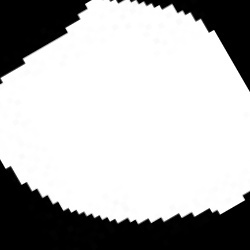spot: (1, 1, 249, 224)
